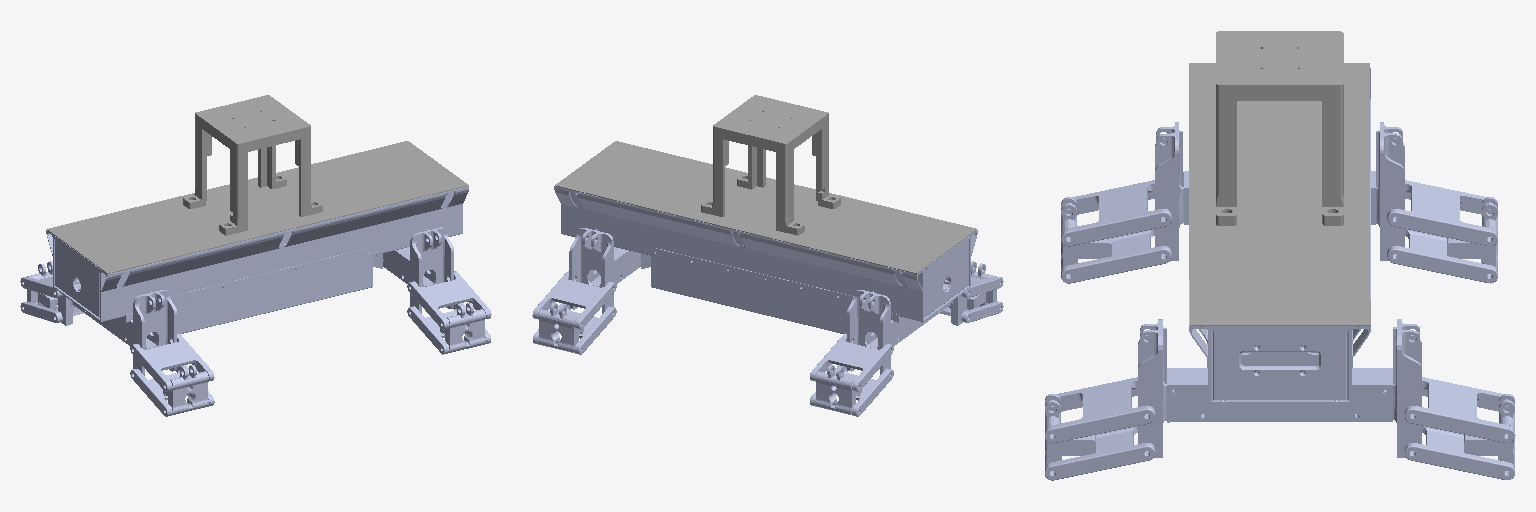
URDF robot description (segwayrmp_description):
<?xml version="1.0" encoding="utf-8"?>
<!-- This URDF was automatically created by SolidWorks to URDF Exporter! Originally created by [author] ([email redacted]) 
     Commit Version: 1.5.1-0-g916b5db  Build Version: 1.5.7152.31018
     For more information, please see http://wiki.ros.org/sw_urdf_exporter -->
<robot
  name="segwayrmp_description">
  <link name="base_link"/>
  <link
    name="Chassis_body">
    <inertial>
      <origin
        xyz="-0.033482 0.22487 0.0057368"
        rpy="0 0 1.57" />
      <mass
        value="1.5192" />
      <inertia
        ixx="0.048829"
        ixy="1.5025E-05"
        ixz="1.729E-06"
        iyy="0.0069994"
        iyz="-0.002399"
        izz="0.052057" />
    </inertial>
    <visual>
      <origin
        xyz="0 0 0"
        rpy="0 0 0" />
      <geometry>
        <mesh
          filename="package://segwayrmp_description/meshes/Chassis_body.STL" />
      </geometry>
      <material
        name="">
        <color
          rgba="0.79216 0.81961 0.93333 1" />
      </material>
    </visual>
    <collision>
      <origin
        xyz="0 0 0"
        rpy="0 0 0" />
      <geometry>
        <mesh
          filename="package://segwayrmp_description/meshes/Chassis_body.STL" />
      </geometry>
    </collision>
  </link>
  <joint name="base_joint" type="fixed">
    <origin xyz="0 0 0" rpy="0 0 -1.57" />
    <parent link="base_link"/>
    <child link="Chassis_body"/>
  </joint>

  <link
    name="Left_rear_wheel">
    <inertial>
      <origin
        xyz="-7.8407E-07 -2.4326E-05 0.002005"
        rpy="0 0 0" />
      <mass
        value="1.3121" />
      <inertia
        ixx="0.004883"
        ixy="-2.8757E-07"
        ixz="-1.4658E-07"
        iyy="0.0048836"
        iyz="-5.3568E-08"
        izz="0.0087354" />
    </inertial>
    <visual>
      <origin
        xyz="0 0 0"
        rpy="0 0 0" />
      <geometry>
        <mesh
          filename="package://segwayrmp_description/meshes/Wheel.STL" />
      </geometry>
      <material
        name="">
        <color
          rgba="0.79216 0.81961 0.93333 1" />
      </material>
    </visual>
    <collision>
      <origin
        xyz="0 0 0"
        rpy="0 0 0" />
      <geometry>
        <mesh
          filename="package://segwayrmp_description/meshes/Wheel.STL" />
      </geometry>
    </collision>
  </link>
  <joint
    name="Left_rear_wheel"
    type="continuous">
    <origin
      xyz="-0.30884 0.04815 -0.080406"
      rpy="1.5708 0 1.5708" />
    <parent
      link="Chassis_body" />
    <child
      link="Left_rear_wheel" />
    <axis
      xyz="0 0 -1" />
  </joint>
  <link
    name="Right_rear_wheel">
    <inertial>
      <origin
        xyz="4.9952E-06 2.3117E-05 0.0019578"
        rpy="0 0 0" />
      <mass
        value="1.313" />
      <inertia
        ixx="0.0048865"
        ixy="3.201E-07"
        ixz="1.7545E-07"
        iyy="0.0048869"
        iyz="-2.3207E-07"
        izz="0.0087402" />
    </inertial>
    <visual>
      <origin
        xyz="0 0 0"
        rpy="0 0 0" />
      <geometry>
        <mesh
          filename="package://segwayrmp_description/meshes/Wheel.STL" />
      </geometry>
      <material
        name="">
        <color
          rgba="0.79216 0.81961 0.93333 1" />
      </material>
    </visual>
    <collision>
      <origin
        xyz="0 0 0"
        rpy="0 0 0" />
      <geometry>
        <mesh
          filename="package://segwayrmp_description/meshes/Wheel.STL" />
      </geometry>
    </collision>
  </link>
  <joint
    name="Right_rear_wheel"
    type="continuous">
    <origin
      xyz="0.24188 0.04815 -0.080406"
      rpy="1.5708 0 -1.5708" />
    <parent
      link="Chassis_body" />
    <child
      link="Right_rear_wheel" />
    <axis
      xyz="0 0 -1" />
  </joint>
  <link
    name="Chassis_front_beam">
    <inertial>
      <origin
        xyz="-8.6161E-10 3.9501E-05 0.0062593"
        rpy="0 0 0" />
      <mass
        value="0.48416" />
      <inertia
        ixx="0.00050823"
        ixy="-1.2209E-08"
        ixz="4.3336E-11"
        iyy="0.0023652"
        iyz="2.6588E-07"
        izz="0.0023821" />
    </inertial>
    <visual>
      <origin
        xyz="0 0 0"
        rpy="0 0 0" />
      <geometry>
        <mesh
          filename="package://segwayrmp_description/meshes/Chassis_front_beam.STL" />
      </geometry>
      <material
        name="">
        <color
          rgba="0.79216 0.81961 0.93333 1" />
      </material>
    </visual>
    <collision>
      <origin
        xyz="0 0 0"
        rpy="0 0 0" />
      <geometry>
        <mesh
          filename="package://segwayrmp_description/meshes/Chassis_front_beam.STL" />
      </geometry>
    </collision>
  </link>
  <joint
    name="Chassis_front_beam"
    type="revolute">
    <origin
      xyz="-0.0335 0.504 -0.0515"
      rpy="0 0 0" />
    <parent
      link="Chassis_body" />
    <child
      link="Chassis_front_beam" />
    <axis
      xyz="0 0 1" />
    <limit
      lower="-3.14"
      upper="3.14"
      effort="0"
      velocity="0" />
  </joint>
  <link
    name="Left_front_wheel">
    <inertial>
      <origin
        xyz="-7.0112E-05 8.4133E-05 0.54476"
        rpy="0 0 0" />
      <mass
        value="1.2504" />
      <inertia
        ixx="0.0046772"
        ixy="1.3239E-07"
        ixz="2.8374E-07"
        iyy="0.0046777"
        iyz="1.339E-07"
        izz="0.0086591" />
    </inertial>
    <visual>
      <origin
        xyz="0 0 0"
        rpy="0 0 0" />
      <geometry>
        <mesh
          filename="package://segwayrmp_description/meshes/Wheel.STL" />
      </geometry>
      <material
        name="">
        <color
          rgba="0.79216 0.81961 0.93333 1" />
      </material>
    </visual>
    <collision>
      <origin
        xyz="0 0 0"
        rpy="0 0 0" />
      <geometry>
        <mesh
          filename="package://segwayrmp_description/meshes/Wheel.STL" />
      </geometry>
    </collision>
  </link>
  <joint
    name="Left_front_wheel"
    type="continuous">
    <origin
      xyz="0.27184 0.0001 -0.028906"
      rpy="1.5708 0 -1.5708" />
    <parent
      link="Chassis_front_beam" />
    <child
      link="Left_front_wheel" />
    <axis
      xyz="0 0 -1" />
  </joint>
  <link
    name="Right_front_wheel">
    <inertial>
      <origin
        xyz="-7.0038E-05 8.4129E-05 0.54476"
        rpy="0 0 0" />
      <mass
        value="1.2504" />
      <inertia
        ixx="0.0046772"
        ixy="1.3959E-07"
        ixz="2.8223E-07"
        iyy="0.0046777"
        iyz="1.3406E-07"
        izz="0.0086591" />
    </inertial>
    <visual>
      <origin
        xyz="0 0 0"
        rpy="0 0 0" />
      <geometry>
        <mesh
          filename="package://segwayrmp_description/meshes/Wheel.STL" />
      </geometry>
      <material
        name="">
        <color
          rgba="0.79216 0.81961 0.93333 1" />
      </material>
    </visual>
    <collision>
      <origin
        xyz="0 0 0"
        rpy="0 0 0" />
      <geometry>
        <mesh
          filename="package://segwayrmp_description/meshes/Wheel.STL" />
      </geometry>
    </collision>
  </link>
  <joint
    name="Right_front_wheel"
    type="continuous">
    <origin
      xyz="-0.27184 0.0001 -0.028906"
      rpy="1.5708 0 1.5708" />
    <parent
      link="Chassis_front_beam" />
    <child
      link="Right_front_wheel" />
    <axis
      xyz="0 0 -1" />
  </joint>
  <!-- 3D LIDAR ON TOP OF ROBOT -->
  <link name="lidar_link">
  <visual>
    <origin xyz="0 0 0" rpy="1.5708 0 3.1416"/>
    <geometry>
        <mesh filename="package://segwayrmp_description/meshes/mid360.stl" scale="0.001 0.001 0.001" />
    </geometry>
    <material name="gray">
      <color rgba="0.7 0.7 0.7 1"/>
    </material>
  </visual>
  <collision>
    <origin xyz="0 0 0" rpy="1.5708 0 3.1416"/>
    <geometry>
        <mesh filename="package://segwayrmp_description/meshes/mid360.stl" scale="0.001 0.001 0.001"/>
    </geometry>
  </collision>
  </link>
  <joint name="lidar_joint" type="fixed">
    <parent link="Chassis_body"/>
    <child link="lidar_link"/>
    <origin xyz="-0.0335 0.276075 0.254" rpy="0 0 1.5708"/> <!-- (X is correct) Y (dist from back till lidar front axis - rear_wheel /2 = (0.504-0.04815)/2 + 0.04815=)  Z: was 0.22-->  
  </joint>
  
  
  <!-- ZED CAMERA ON TOP OF ROBOT -->
  <link name="zed_camera_link">
  <visual>
    <origin xyz="0 0 0" rpy="1.5708 0 1.5708"/>
    <geometry>
        <mesh filename="package://segwayrmp_description/meshes/ZEDX.stl" scale="0.001 0.001 0.001" />
    </geometry>
    <material name="gray">
      <color rgba="0.7 0.7 0.7 1"/>
    </material>
  </visual>
  <collision>
    <origin xyz="0 0 0" rpy="1.5708 0 1.5708"/>
    <geometry>
        <mesh filename="package://segwayrmp_description/meshes/ZEDX.stl" scale="0.001 0.001 0.001"/>
    </geometry>
  </collision>
  </link>
  <joint name="camera_joint" type="fixed">
    <parent link="Chassis_body"/>
    <child link="zed_camera_link"/>
    <origin xyz="-0.0335 0.500 0.15" rpy="0 -0.297 1.5708"/>  <!-- (X is correct) Y   Z.  Angle: 17 deg == 0.297  -->
  </joint>
  
  
  
    <!-- Segway TOP Plate -->
  <link name="top_plate">
  <visual>
    <origin xyz="0 0 0" rpy="0 0 0"/>
    <geometry>
        <mesh filename="package://segwayrmp_description/meshes/segway_top_plate.stl" scale="0.001 0.001 0.001" />
    </geometry>
    <material name="gray">
      <color rgba="0.7 0.7 0.7 1"/>
    </material>
  </visual>
  <collision>
    <origin xyz="0 0 0" rpy="1.5708 0 1.5708"/>
    <geometry>
        <mesh filename="package://segwayrmp_description/meshes/segway_top_plate.stl" scale="0.001 0.001 0.001"/>
    </geometry>
  </collision>
  </link>
  <joint name="top_plate_joint" type="fixed">
    <parent link="Chassis_body"/>
    <child link="top_plate"/>
    <origin xyz="-0.0335 0.284 0.085" rpy="0 0 1.5708"/>  <!-- ????  -->
  </joint>
  
  
  
    <!-- Jeson + Lidar Mount -->
  <link name="jetson_mount">
  <visual>
    <origin xyz="0 0 0" rpy="0 0 0"/>
    <geometry>
        <mesh filename="package://segwayrmp_description/meshes/Jetson_top_only_w_extended_leg.stl" scale="0.001 0.001 0.001" />
    </geometry>
    <material name="gray">
      <color rgba="0.7 0.7 0.7 1"/>
    </material>
  </visual>
  <collision>
    <origin xyz="0 0 0" rpy="1.5708 0 1.5708"/>
    <geometry>
        <mesh filename="package://segwayrmp_description/meshes/Jetson_top_only_w_extended_leg.stl" scale="0.001 0.001 0.001"/>
    </geometry>
  </collision>
  </link>
  <joint name="jetson_mount_joint" type="fixed">
    <parent link="Chassis_body"/>
    <child link="jetson_mount"/>
    <origin xyz="-0.0335 0.276075 0.099" rpy="0 0 0"/>  <!-- ????  -->
  </joint>
  
    <!-- Jetson -->
  <link name="jetson">
  <visual>
    <origin xyz="0 0 0" rpy="1.5708 0 1.5708"/>
    <geometry>
        <mesh filename="package://segwayrmp_description/meshes/jetson.stl" scale="0.001 0.001 0.001" />
    </geometry>
    <material name="gray">
      <color rgba="0.7 0.7 0.7 1"/>
    </material>
  </visual>
  <collision>
    <origin xyz="0 0 0" rpy="1.5708 0 1.5708"/>
    <geometry>
        <mesh filename="package://segwayrmp_description/meshes/jetson.stl" scale="0.001 0.001 0.001"/>
    </geometry>
  </collision>
  </link>
  <joint name="jetson_joint" type="fixed">
    <parent link="Chassis_body"/>
    <child link="jetson"/>
    <origin xyz="-0.082 0.235 0.125" rpy="0 -1.5708 -1.5708"/>  <!-- ????  -->
  </joint>
</robot>


--- What the picture shows (computed from the rendered views, not written in the file) ---
The picture shows the robot from 3 angles, left to right: view 1: azimuth 30°, elevation 25°; view 2: azimuth 150°, elevation 25°; view 3: azimuth 270°, elevation 25°; orthographic projection.
Robot: segwayrmp_description — 12 links, 11 joints (1 revolute, 4 continuous, 6 fixed); root link base_link; default pose: every joint at zero.
Links seen in each view (by area): view 1: Chassis_body, top_plate, jetson_mount, Chassis_front_beam; view 2: Chassis_body, top_plate, jetson_mount, Chassis_front_beam; view 3: top_plate, Chassis_body, Chassis_front_beam, jetson_mount.
Boxes of the visible links, x1=… form: Chassis_body: x1=20, y1=186, x2=468, y2=416; top_plate: x1=47, y1=141, x2=468, y2=273; jetson_mount: x1=183, y1=95, x2=322, y2=235; Chassis_front_beam: x1=383, y1=227, x2=491, y2=354; Chassis_body: x1=554, y1=186, x2=1003, y2=416; top_plate: x1=555, y1=141, x2=976, y2=273; jetson_mount: x1=701, y1=95, x2=840, y2=235; Chassis_front_beam: x1=532, y1=228, x2=640, y2=354; top_plate: x1=1189, y1=63, x2=1370, y2=326; Chassis_body: x1=1061, y1=68, x2=1497, y2=404; Chassis_front_beam: x1=1045, y1=319, x2=1515, y2=480; jetson_mount: x1=1216, y1=31, x2=1343, y2=225.
Bounding box of the posed robot: 0.6081 × 0.4607 × 0.3313 m (x, y, z).
4 mesh visuals loaded from 8 distinct referenced files (4 binary STL); not drawn: 7 (reference not matched to a file when rendering).